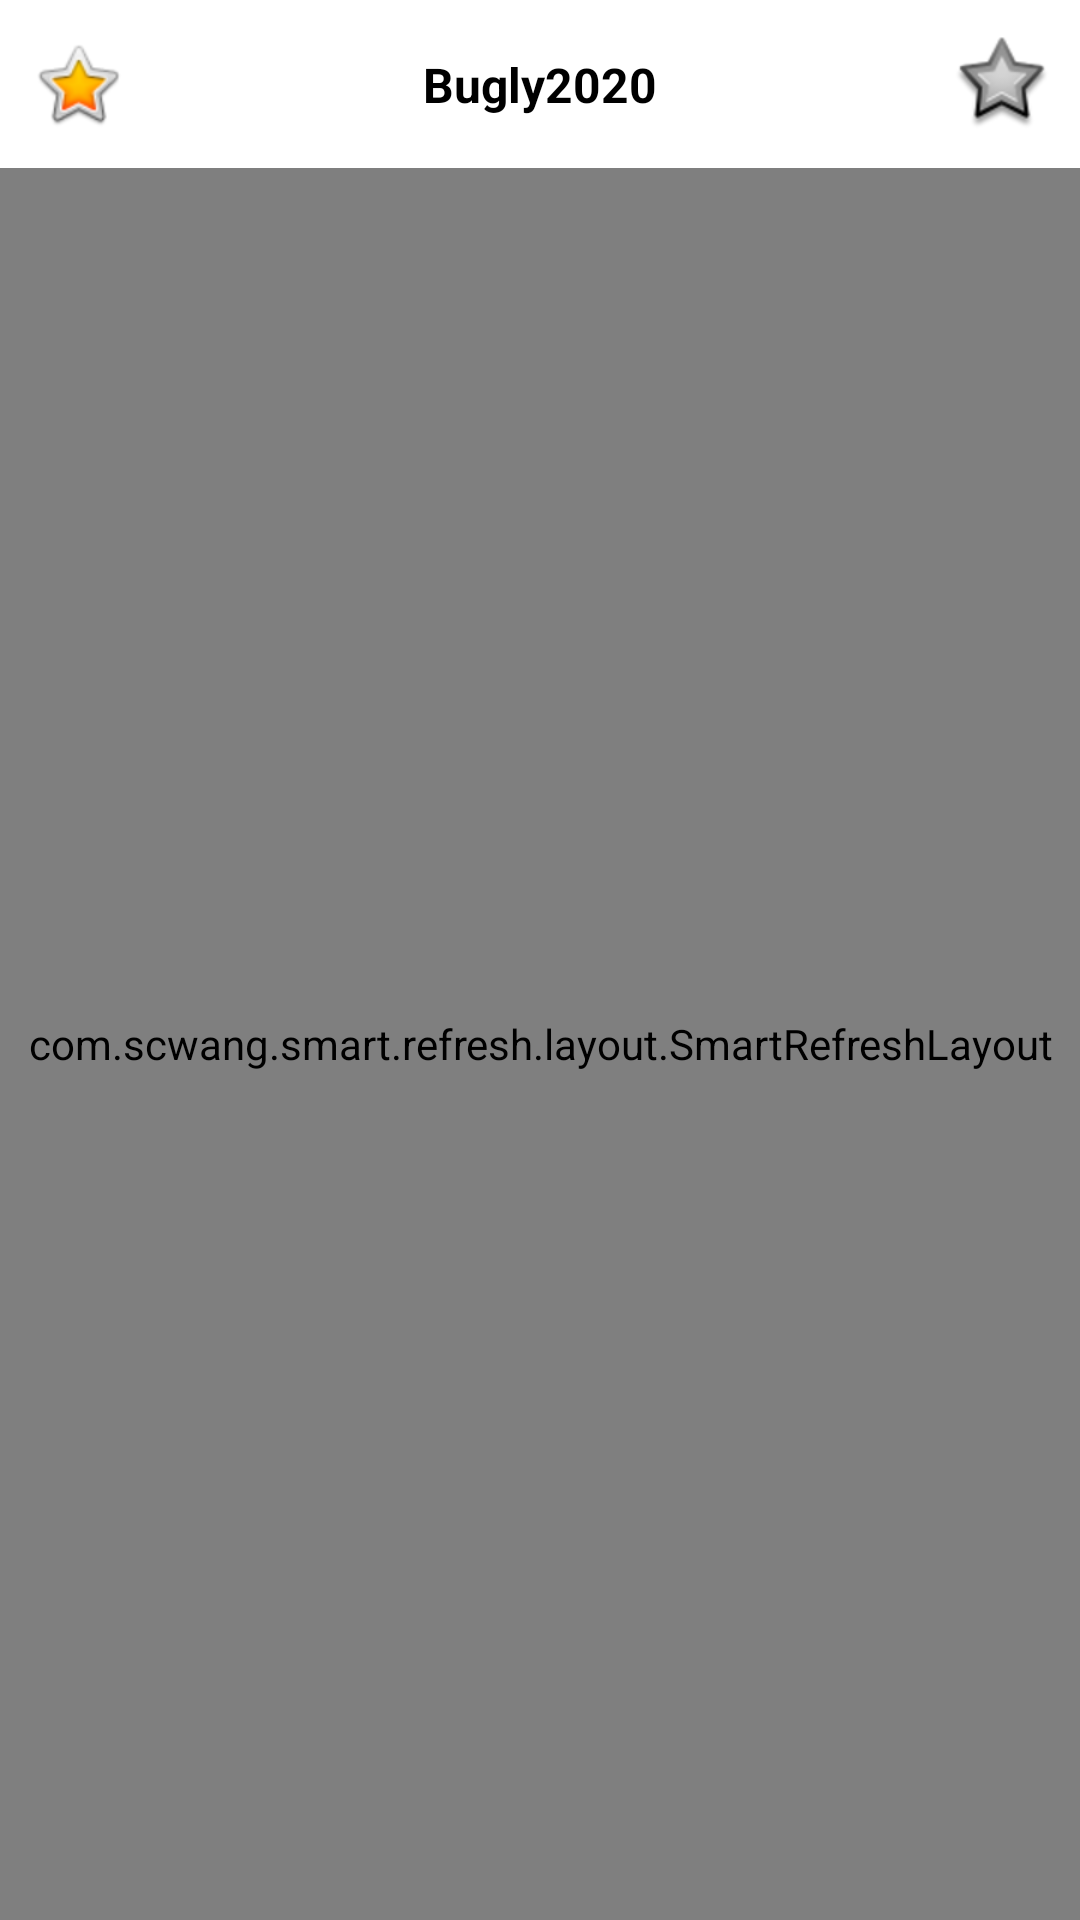

Point at icon controls on the screen. Image size 1080 × 1920, points as (x=x, y=y).
star off: (x=1002, y=80)
